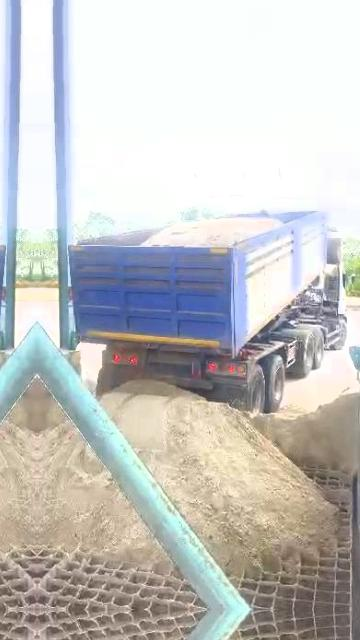sand: (102, 381, 336, 575), (37, 422, 169, 568), (251, 383, 360, 474), (142, 216, 279, 247)
